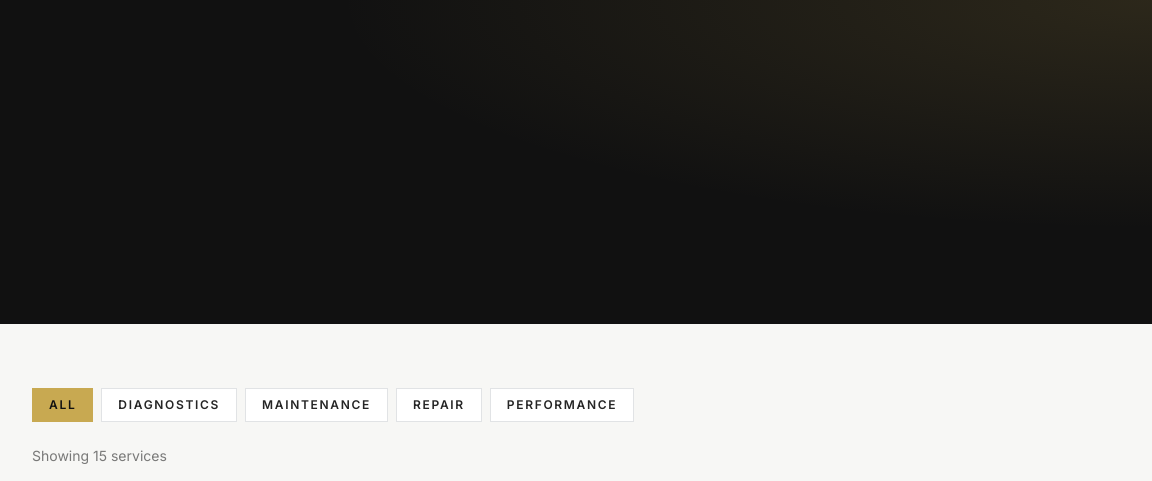
Test: Service filtering › filters services by category
Expected: the text "Showing 15 services" is shown, [32,447,167,464]
Click the button "Performance".
click(562, 405)  # box [490,388,634,422]
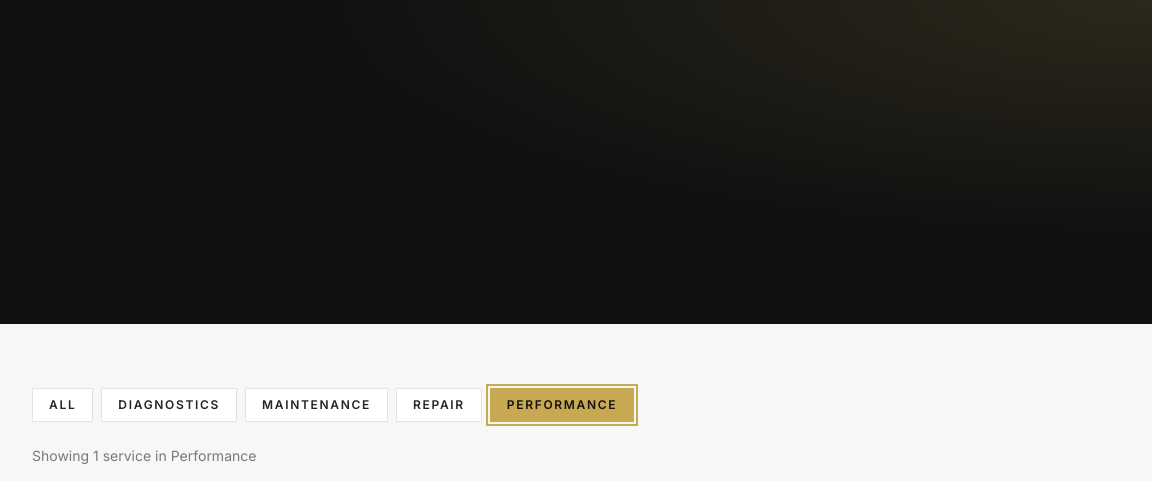
Expected: the text "Showing 1 service in Performance" is shown, [32,447,256,464]
